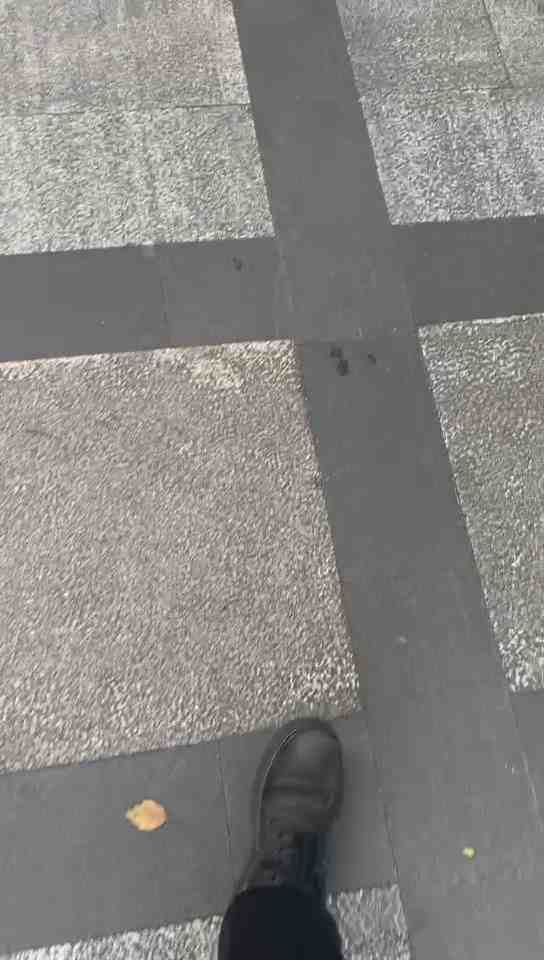leaf: (122, 796, 171, 838)
